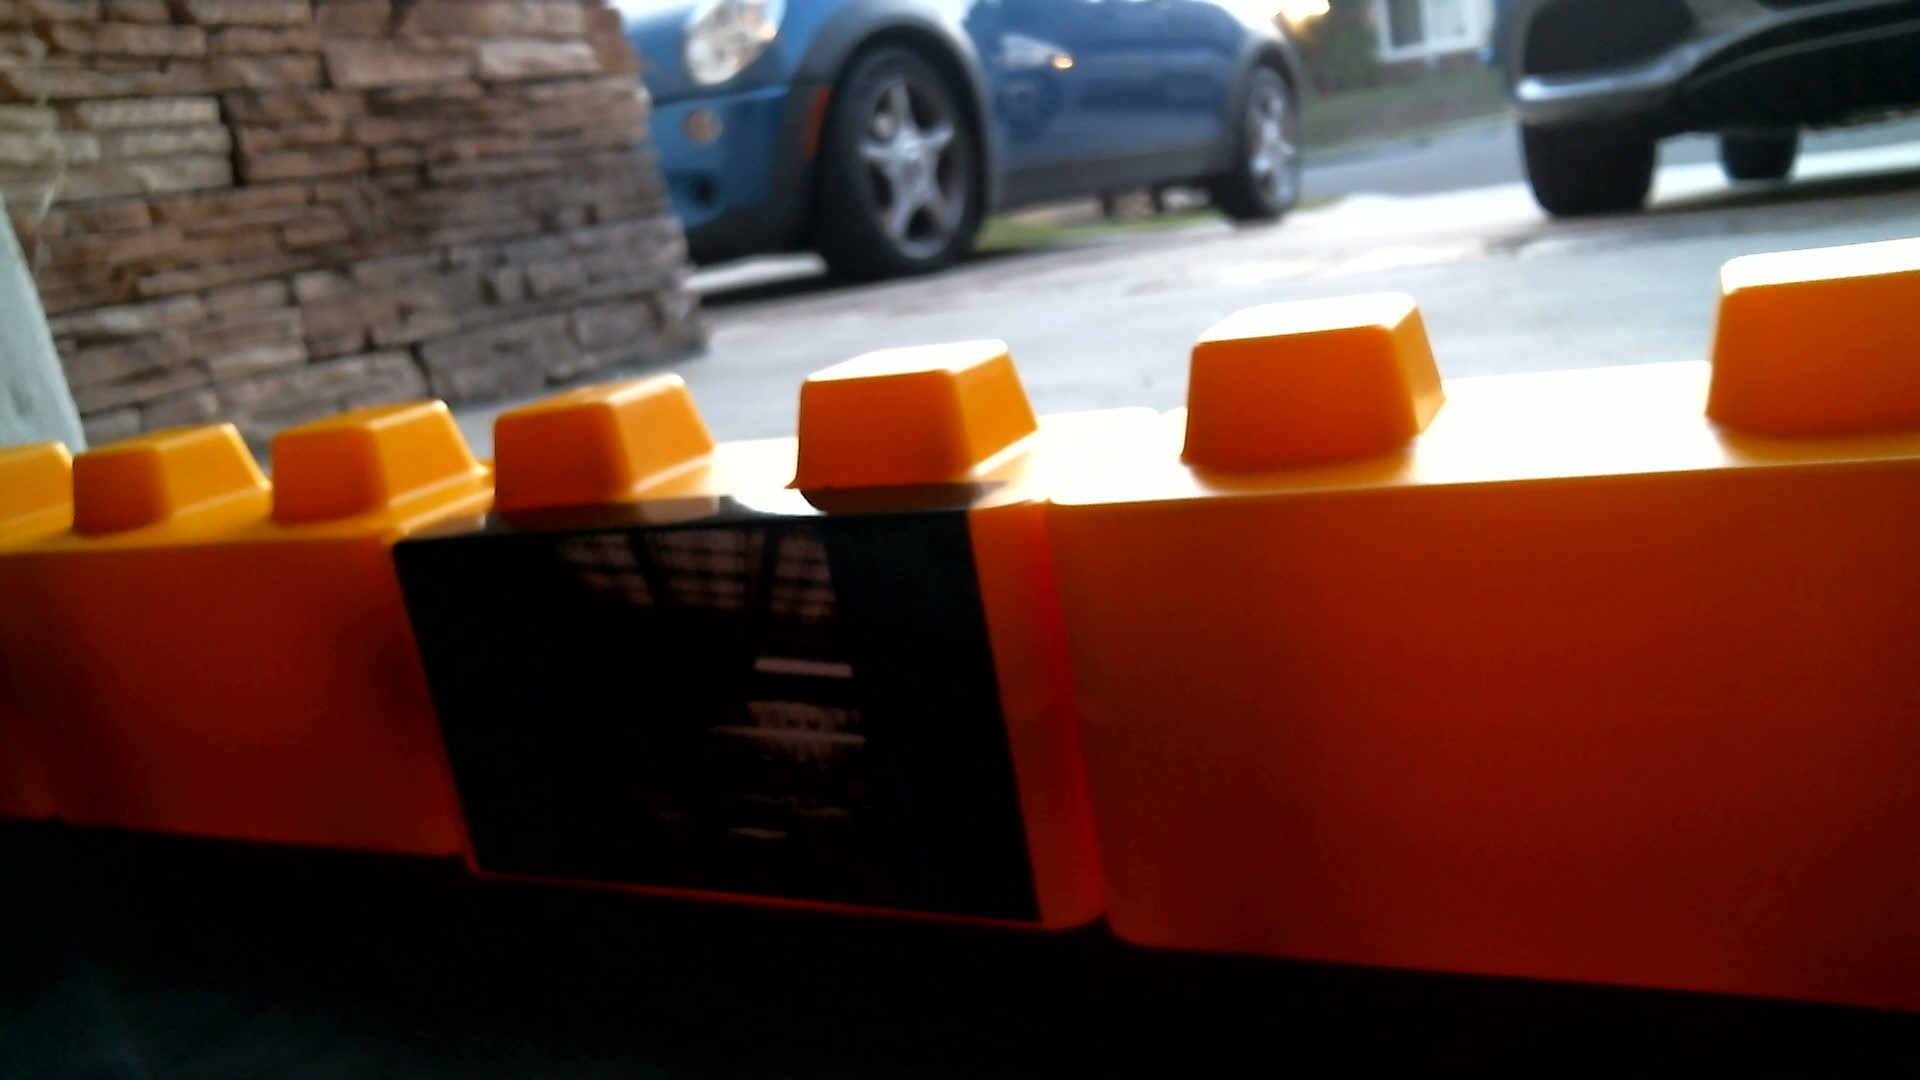center: (41, 393, 1920, 1015)
